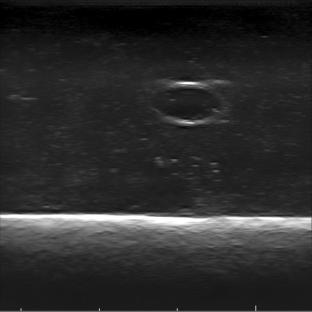vessel: (149, 81, 228, 126)
